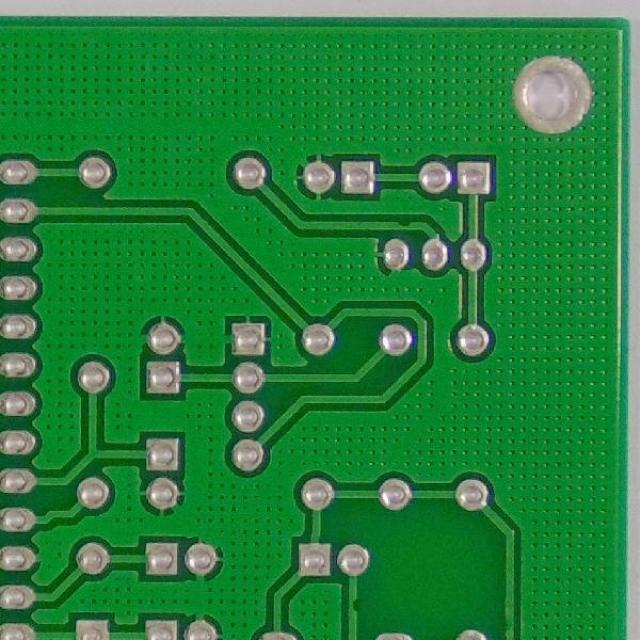mouse_bite: (394, 215, 418, 237), (346, 594, 364, 617)
